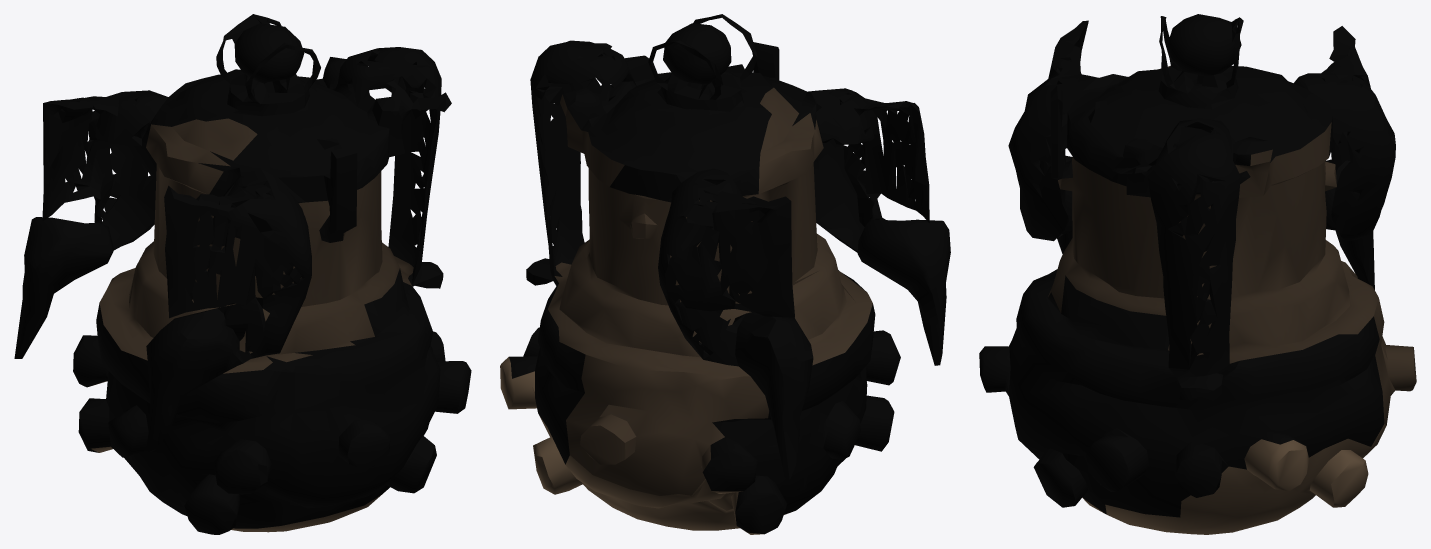
The model's file is jinx-granade-clean_web.glb.
3 views of the same model, side by side, from view 1: azimuth 30°, elevation 25°; view 2: azimuth 150°, elevation 25°; view 3: azimuth 270°, elevation 25° (orthographic). The views are drawn at different scales.
Visible parts, largest first — view 1: LOD0; view 2: LOD0; view 3: LOD0.
Boxes of the visible parts, bbox=[...] form: LOD0: bbox=[14, 14, 471, 534]; LOD0: bbox=[500, 14, 950, 534]; LOD0: bbox=[979, 14, 1416, 534].
Size of the model in its own units: 1.52 by 1.99 by 1.59.
1 material, 1 textured.
